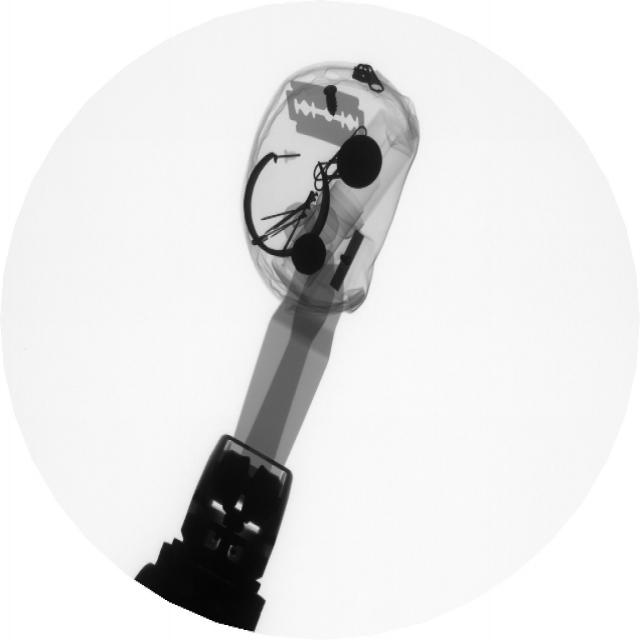BLADE: (283, 76, 376, 154)
